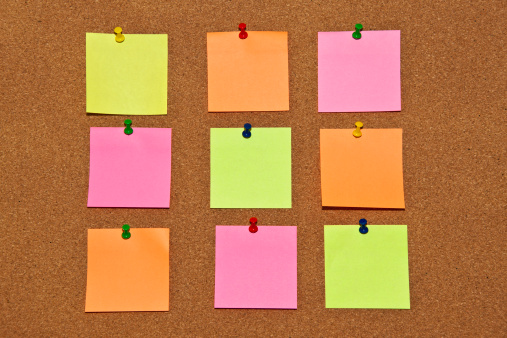orange_sticky_note: (318, 128, 406, 210), (85, 228, 170, 311), (205, 31, 290, 111)
pink_sticky_note: (214, 225, 298, 310), (86, 125, 172, 208), (315, 30, 402, 111)
yellow_sticky_note: (323, 225, 411, 310), (84, 31, 168, 115), (209, 127, 292, 208)
